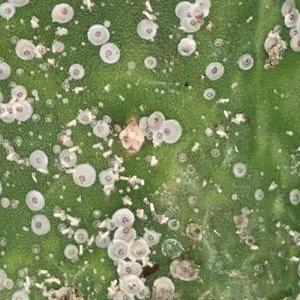Femea: (100, 45, 119, 63), (16, 42, 33, 60), (53, 3, 70, 21), (74, 169, 92, 186), (90, 25, 106, 42), (114, 210, 131, 225), (237, 52, 253, 67), (163, 123, 176, 141), (177, 3, 192, 18), (32, 217, 46, 233), (139, 22, 153, 37), (14, 103, 28, 118), (231, 162, 246, 176), (111, 243, 125, 258), (129, 243, 145, 256), (0, 4, 17, 16), (119, 263, 137, 274), (117, 228, 133, 240), (149, 114, 163, 127), (99, 171, 114, 183), (4, 104, 14, 121), (125, 279, 138, 292), (28, 192, 42, 204), (287, 189, 299, 203), (178, 40, 190, 53), (61, 153, 75, 164), (143, 232, 157, 243), (32, 153, 42, 167), (183, 20, 197, 30), (70, 67, 83, 77), (208, 63, 217, 77), (95, 124, 105, 136), (11, 88, 24, 97), (154, 131, 163, 142), (286, 11, 295, 21), (0, 61, 5, 77), (0, 104, 5, 116)
Macho: (144, 7, 159, 14), (68, 212, 83, 219), (63, 122, 78, 129), (100, 155, 112, 162), (107, 228, 113, 242), (51, 212, 64, 218), (89, 145, 104, 150), (145, 0, 151, 12), (78, 243, 84, 254), (114, 138, 127, 142), (118, 175, 131, 179)
